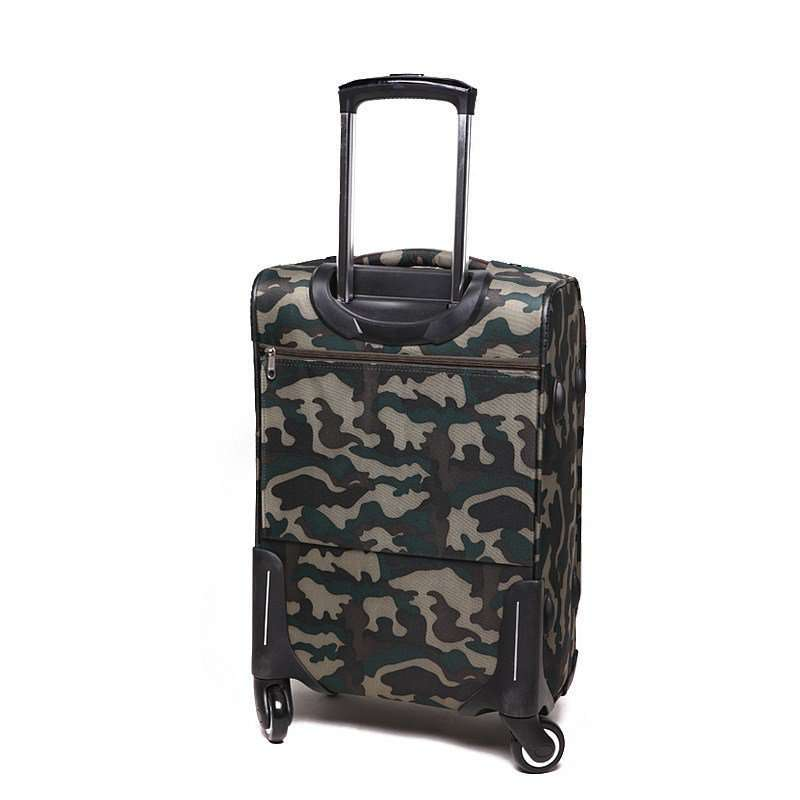luggage: (248, 70, 586, 775)
